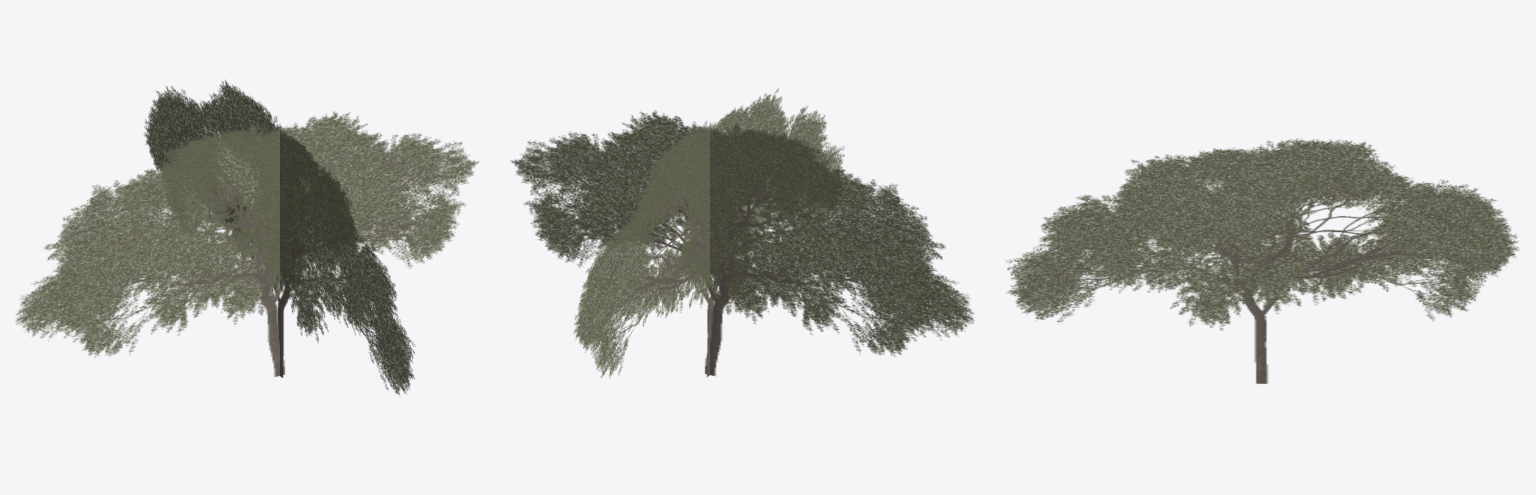
Rendered from AcaciaTortilis.glb.
3 views of the same model, side by side, from view 1: azimuth 30°, elevation 25°; view 2: azimuth 150°, elevation 25°; view 3: azimuth 270°, elevation 25° (orthographic). The views are drawn at different scales.
Visible parts, largest first — view 1: mesh__mat_billboard_4; view 2: mesh__mat_billboard_4; view 3: mesh__mat_billboard_4.
Boxes of the visible parts, x1,y1,x2,y2 form: mesh__mat_billboard_4: [15, 80, 478, 397]; mesh__mat_billboard_4: [511, 88, 974, 378]; mesh__mat_billboard_4: [1006, 138, 1519, 383].
Size of the model in its own units: 34.3 by 18.72 by 34.89.
1 material, 1 textured.
